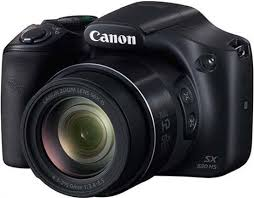camera: (4, 9, 251, 190)
